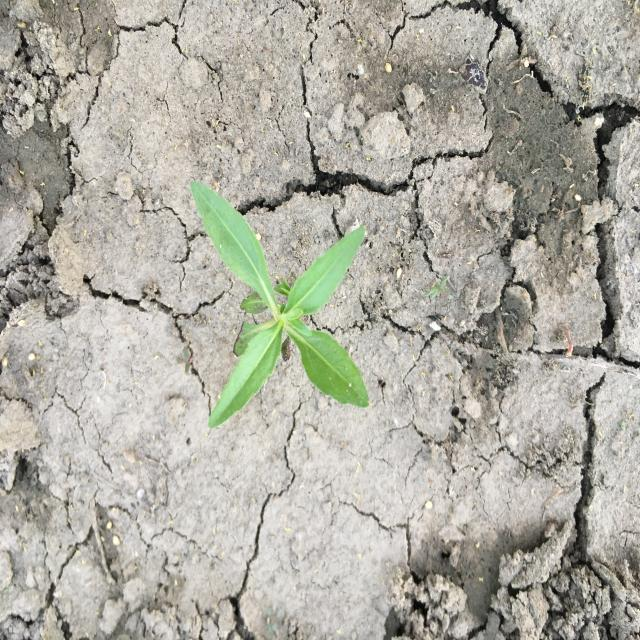Eclipta: (189, 180, 371, 432)
